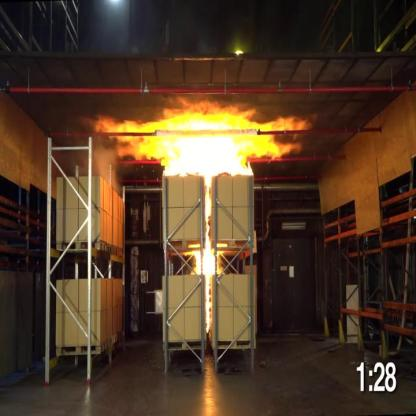fire: (92, 109, 311, 175), (184, 183, 227, 349)
